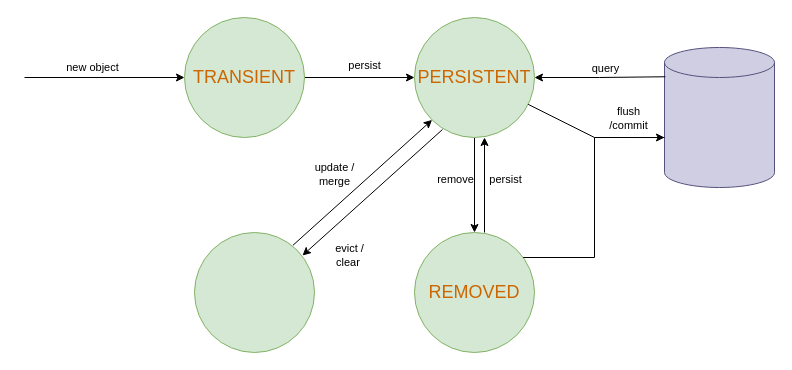
Some shapes in this 792 by 370 pixel diagram are drawn without their labels. The box of each missing label's shape, as (x1, y1, x2, y2) in pixels:
DB: (664, 46, 774, 188)
DETACHED: (194, 232, 314, 352)
